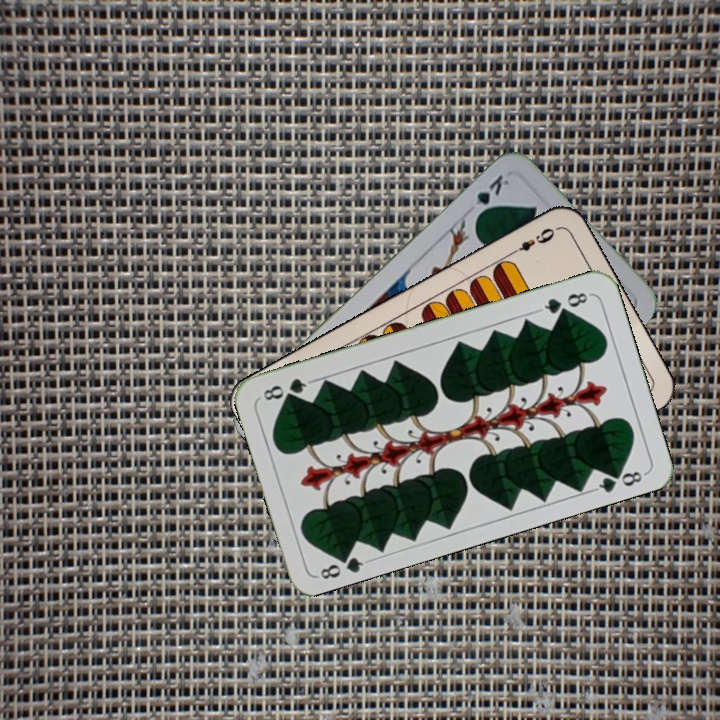E9: (505, 223, 558, 258)
G8: (314, 547, 372, 582), (535, 288, 593, 317)
GK: (469, 170, 513, 221)
